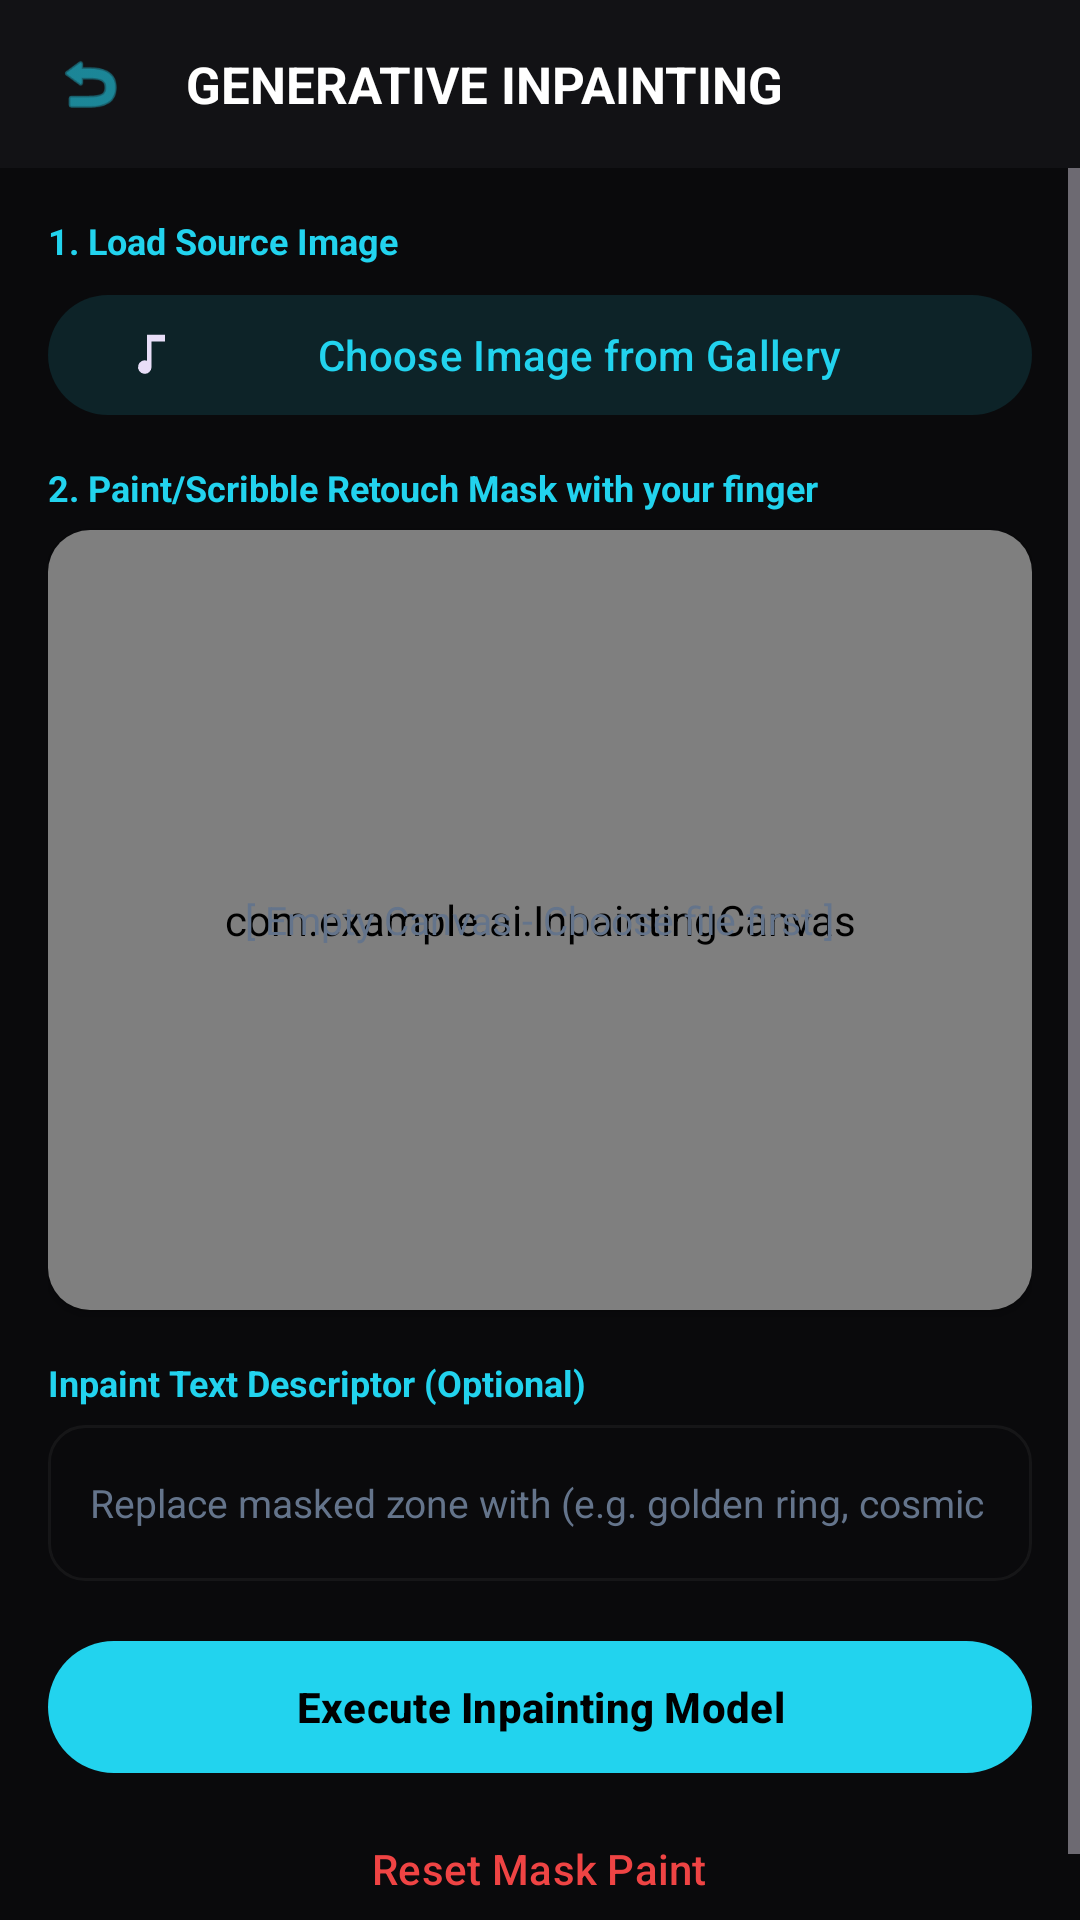

Named icons in this screenshot (1080w x 1920h) and their bounding boxes, (x1, y1, x2, y2):
Go Back: (65, 61, 117, 108)
